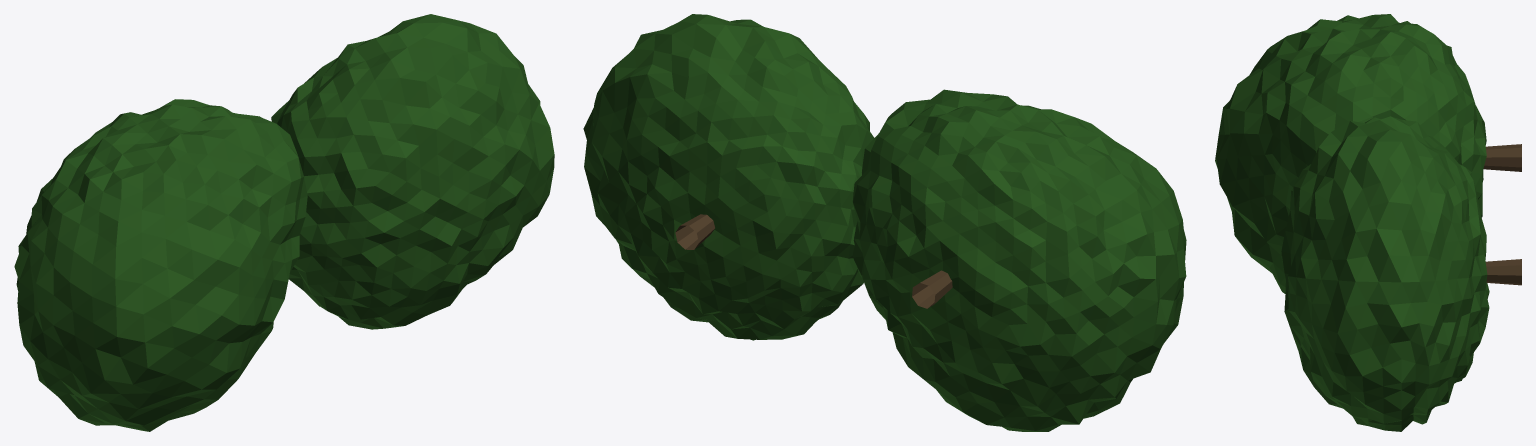
Rendered from citrus_run2_a.obj.
3 renders of one model, left to right at view 1: azimuth 30°, elevation 25°; view 2: azimuth 150°, elevation 25°; view 3: azimuth 270°, elevation 25°, orthographic. The views are drawn at different scales.
Parts seen in each view (by area): view 1: canopy; view 2: canopy, trunk; view 3: canopy, trunk.
Boxes of the visible parts, x1=… form: canopy: x1=14, y1=14, x2=554, y2=431; canopy: x1=583, y1=14, x2=1186, y2=431; trunk: x1=675, y1=214, x2=952, y2=308; canopy: x1=1215, y1=14, x2=1489, y2=431; trunk: x1=1483, y1=144, x2=1521, y2=285.
Bounding box in the file's own units: 7.09 × 4.07 × 3.4.
